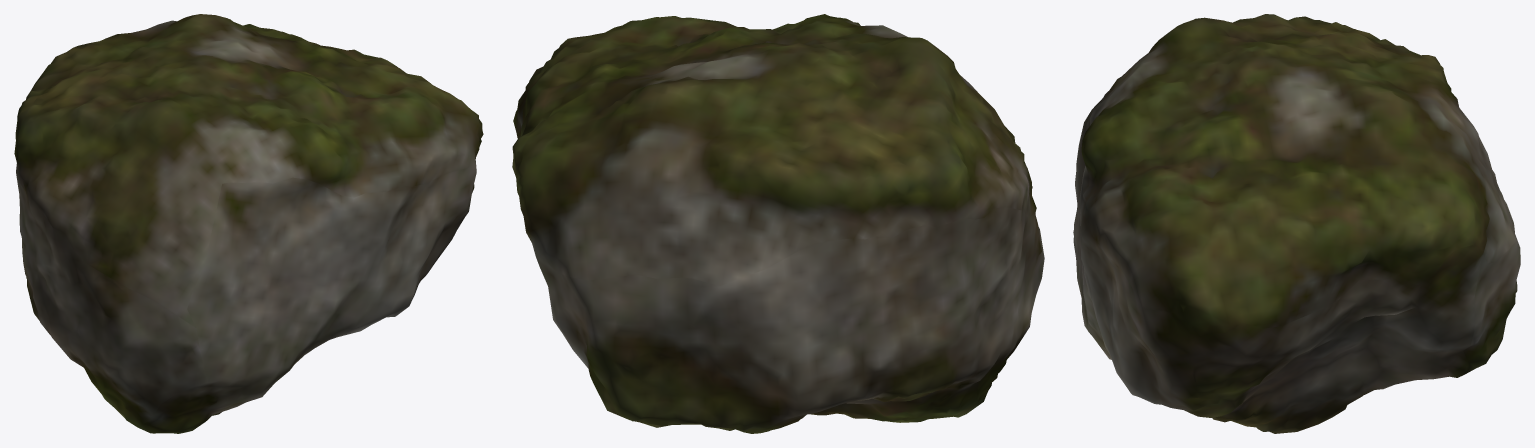
File: Stone_04_A.fbx
3 renders of one model, left to right at view 1: azimuth 30°, elevation 25°; view 2: azimuth 150°, elevation 25°; view 3: azimuth 270°, elevation 25°, orthographic. The views are drawn at different scales.
Visible parts, largest first — view 1: Stone_04; view 2: Stone_04; view 3: Stone_04.
Part boxes in pixels (x1,y1,x2,y2): Stone_04: (14,14,483,433); Stone_04: (512,14,1044,433); Stone_04: (1073,14,1520,433).
Size of what is drawn, in the model's own units: 313 by 225 by 263.
